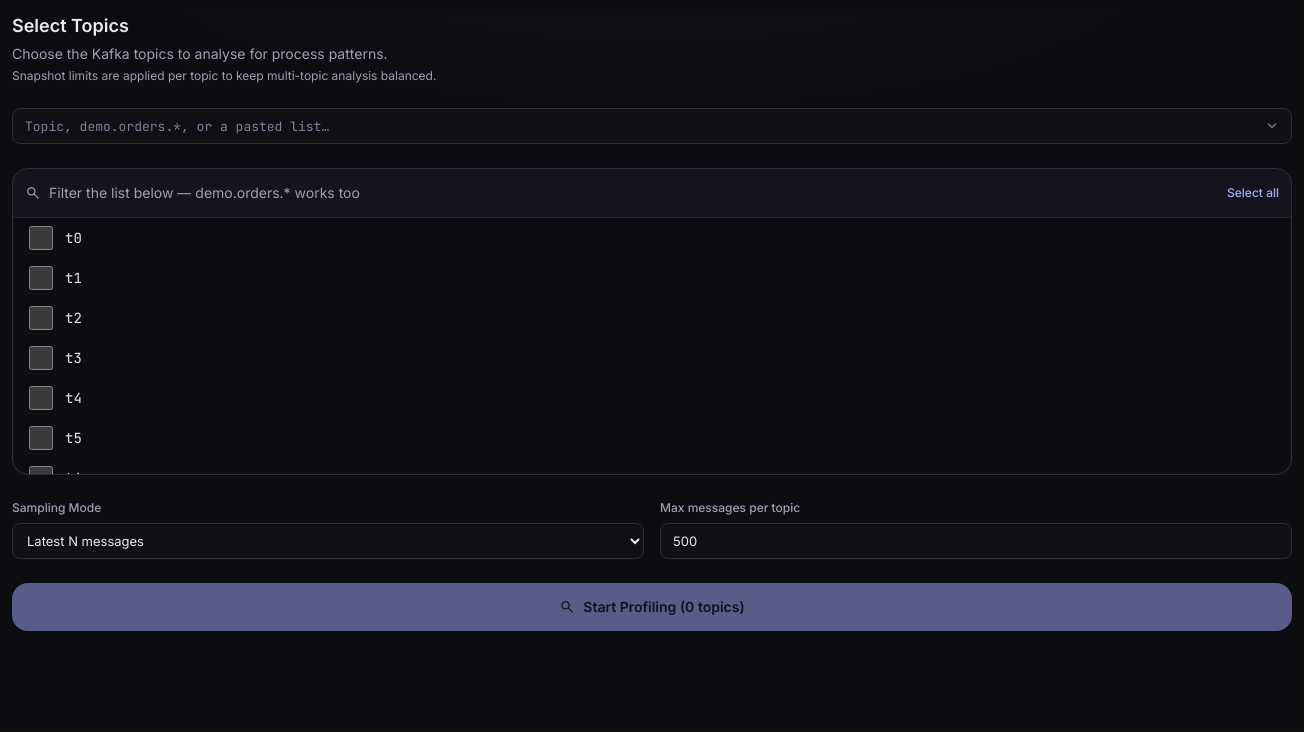
Test case: TopicSelectorPanel › applies no cap — a profiling run is bounded by its prompt budget, not by a topic count
Expected: the text "t0" is shown, top-left (65, 228), bottom-right (82, 248)
Type "*" into the dropdown named "Add topics by name, list or pattern".
click(652, 126); type("*")  # box top-left (12, 108), bottom-right (1292, 144)
Then press Enter
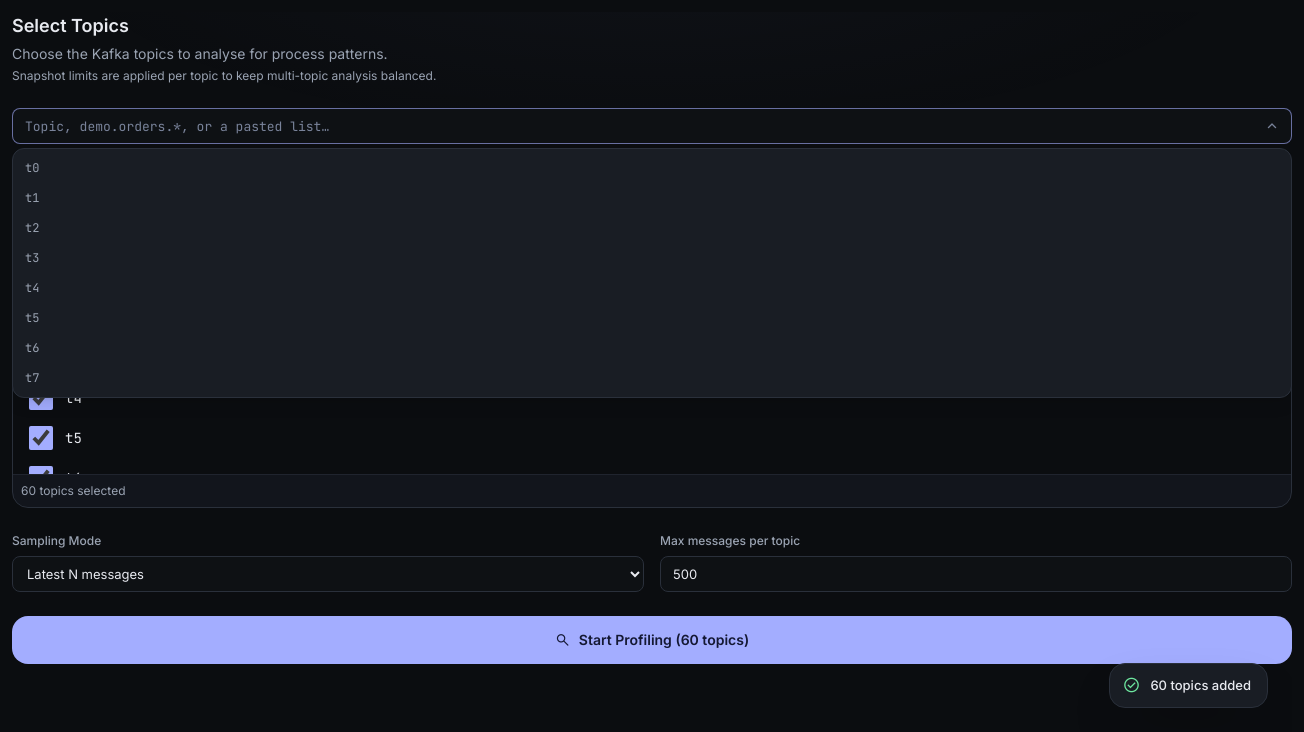
Result: the text "60 topics selected" is shown at top-left (13, 474), bottom-right (1291, 507)
